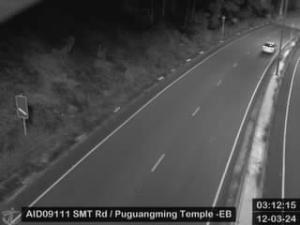vehicle: (262, 41, 278, 53)
